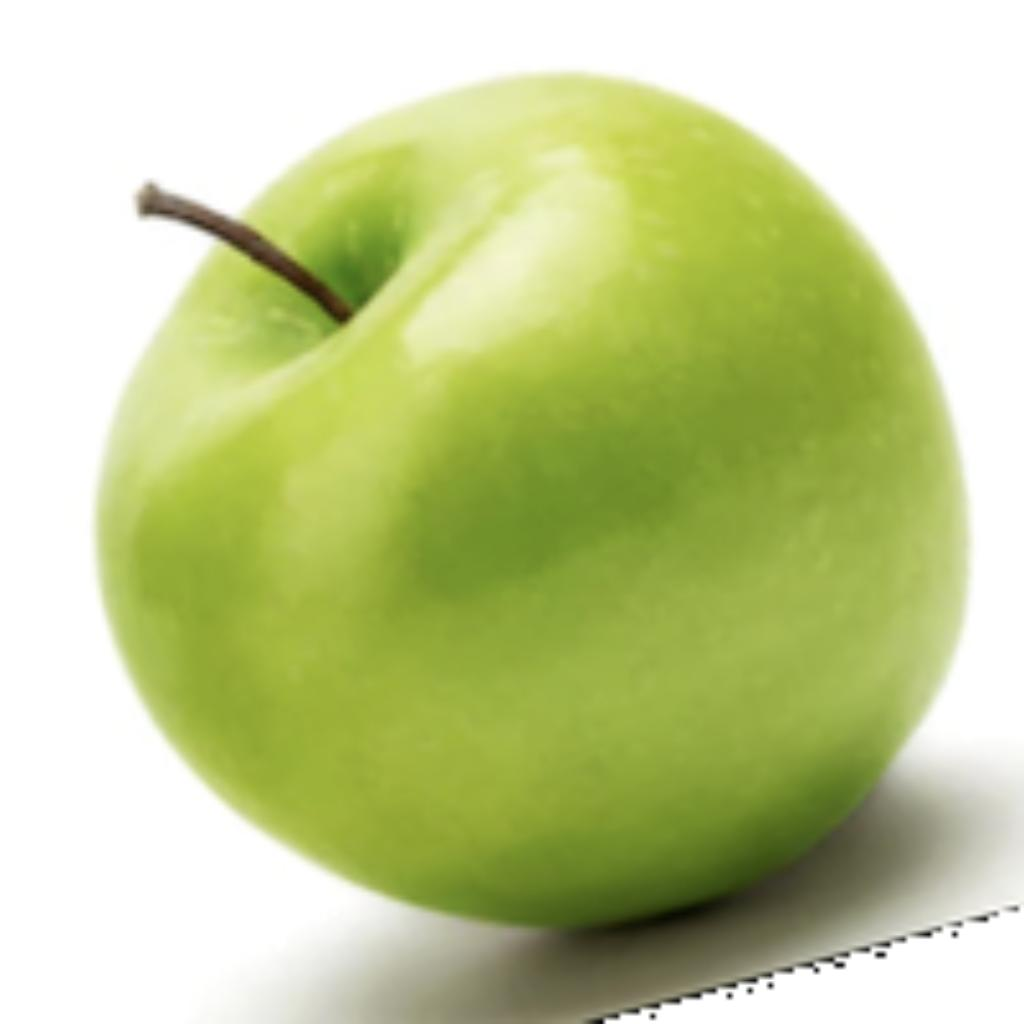apple: (87, 61, 1019, 1019)
